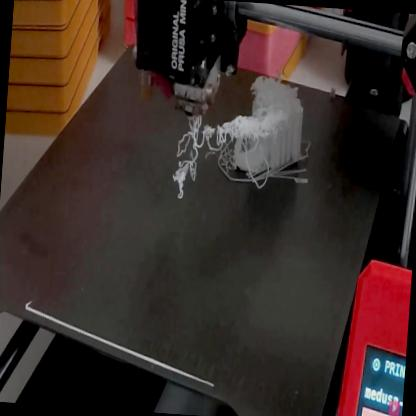fail: (171, 112, 245, 207)
